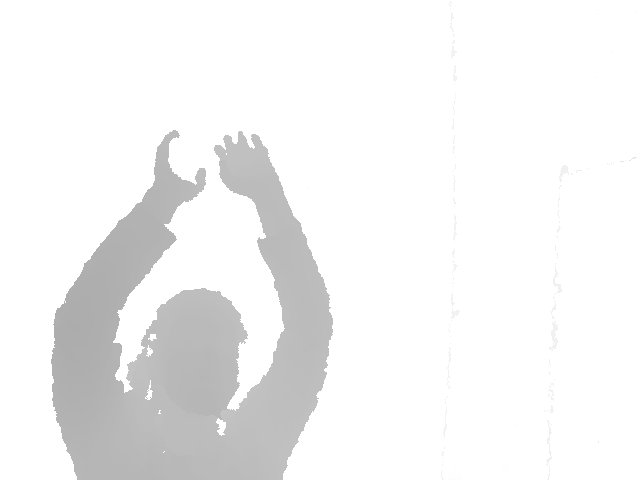hand: (213, 130, 288, 200), (151, 128, 208, 211)
head: (133, 287, 250, 426)
person: (48, 128, 335, 479)
